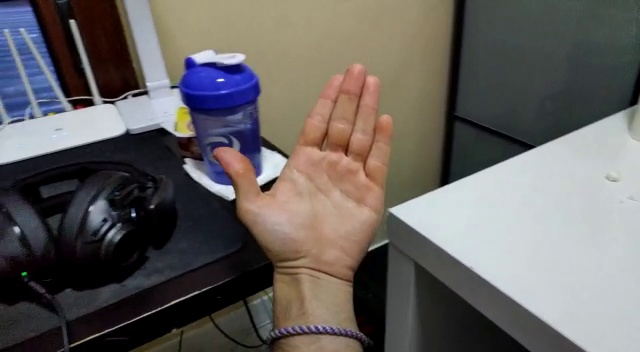Palm: (211, 58, 394, 286)
